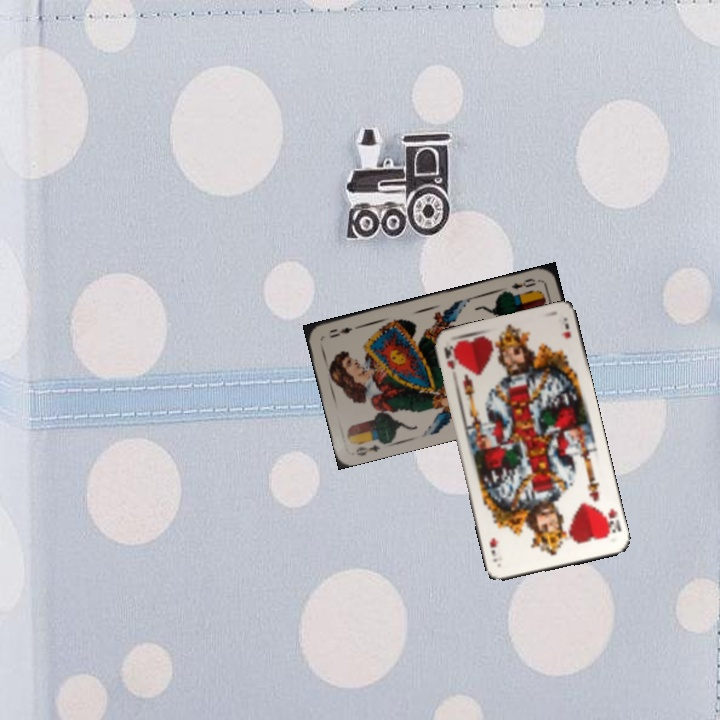EO: (507, 274, 539, 293), (352, 441, 382, 459)
HK: (599, 504, 624, 540), (440, 342, 458, 371)
